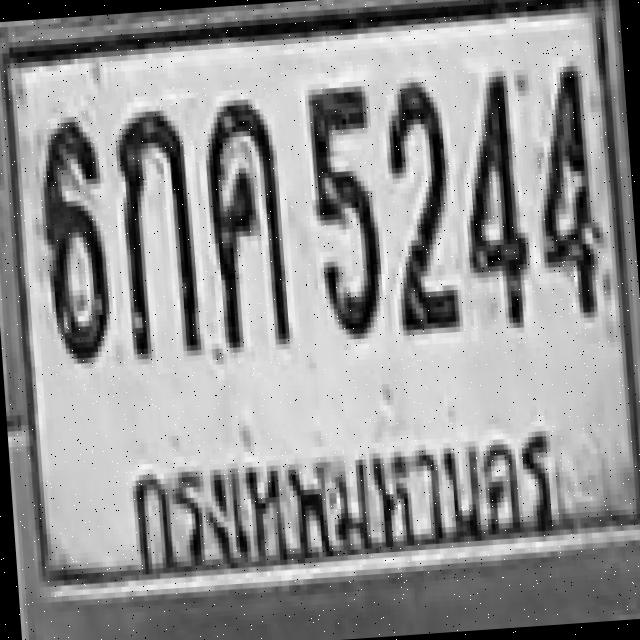10GorGai: (113, 103, 201, 360)
13KhorKhwai: (200, 92, 292, 348)
2: (382, 77, 459, 333)
4: (454, 67, 532, 328), (528, 62, 602, 317)
5: (304, 80, 386, 341)
6: (35, 115, 113, 365)
Bangkok: (116, 412, 576, 601)
